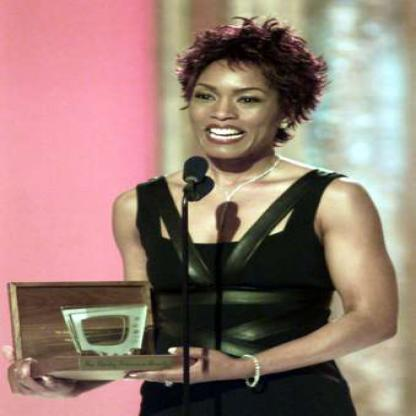face: (189, 41, 287, 163)
